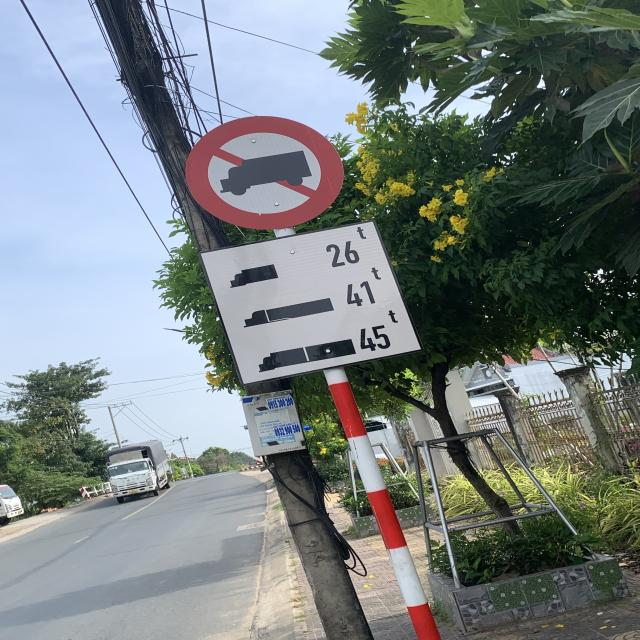Cam_Xe_Tai: (181, 114, 342, 230)
